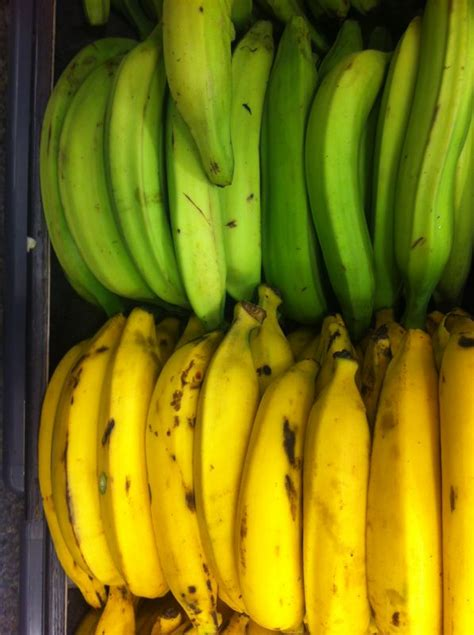banana: (52, 39, 166, 305), (300, 43, 396, 338), (363, 325, 447, 635), (92, 306, 174, 607), (193, 306, 270, 624), (157, 1, 246, 196)
